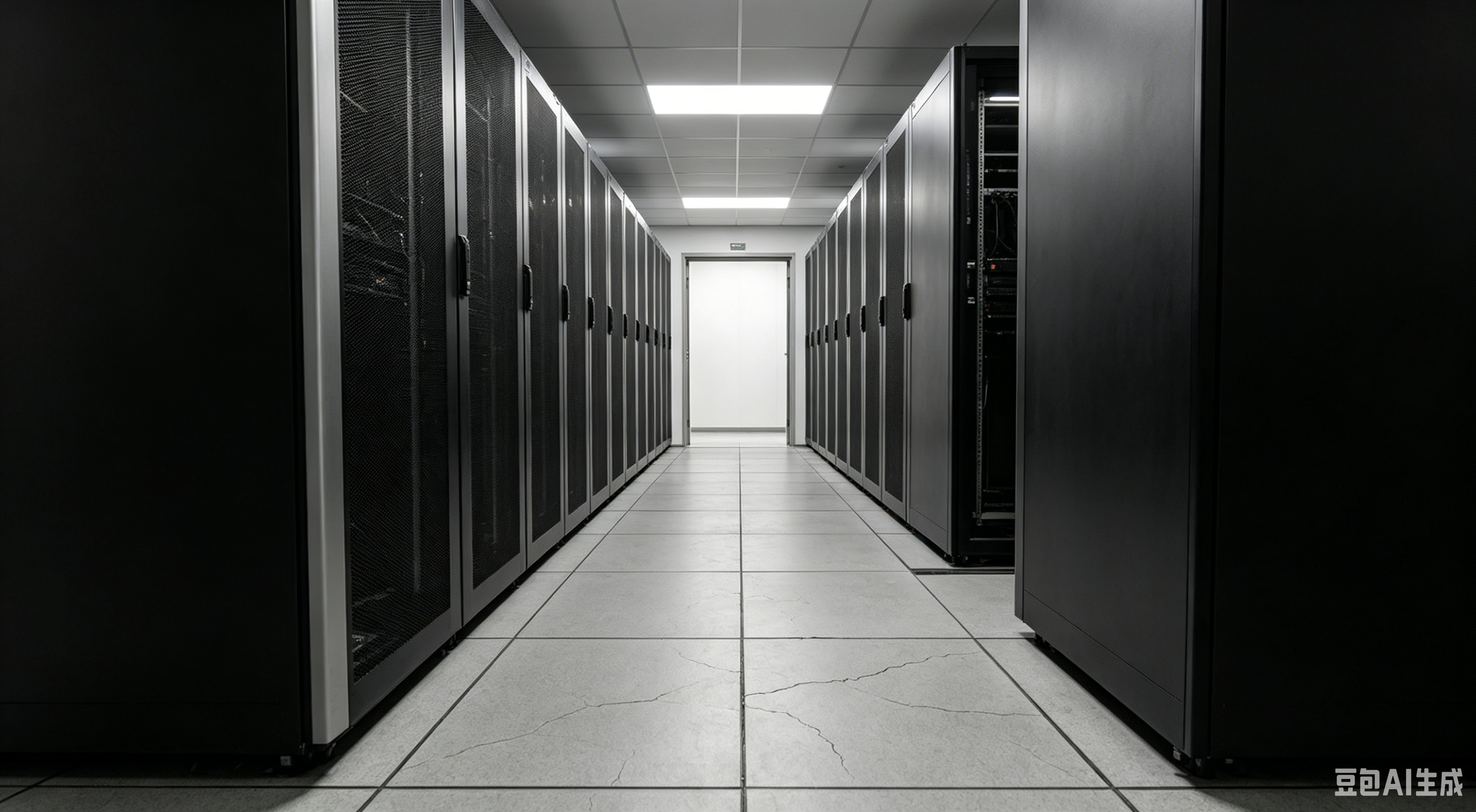floor_defect: (743, 666, 892, 699), (887, 688, 1024, 722), (870, 638, 977, 681), (599, 672, 696, 712), (419, 731, 522, 766), (511, 702, 603, 731), (671, 643, 745, 677), (817, 724, 856, 781), (749, 705, 811, 730)
